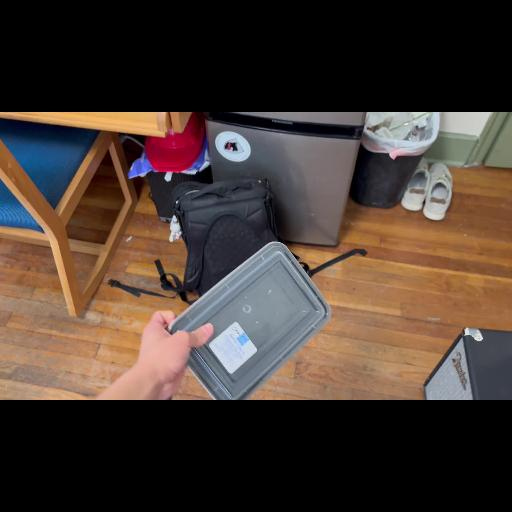rigid_plastic_container: (140, 236, 346, 400)
